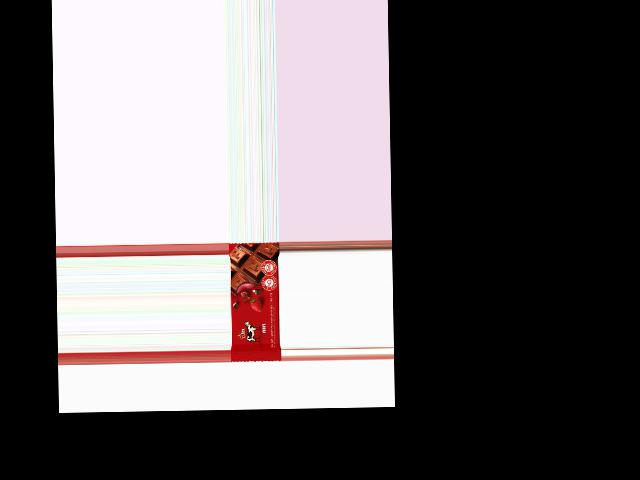chocolate: (229, 243, 282, 362)
